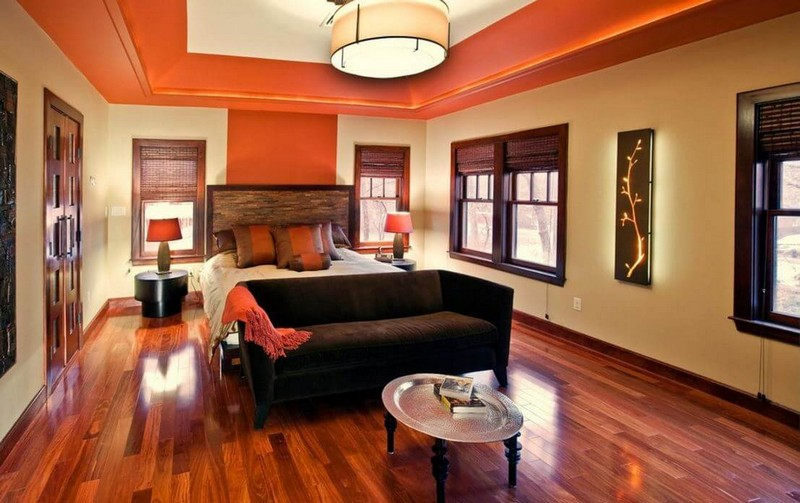bed: (203, 185, 399, 338)
door: (42, 81, 87, 380)
lamp: (146, 215, 183, 276), (382, 209, 414, 263)
sofa: (235, 268, 514, 401)
table: (377, 364, 528, 491)
